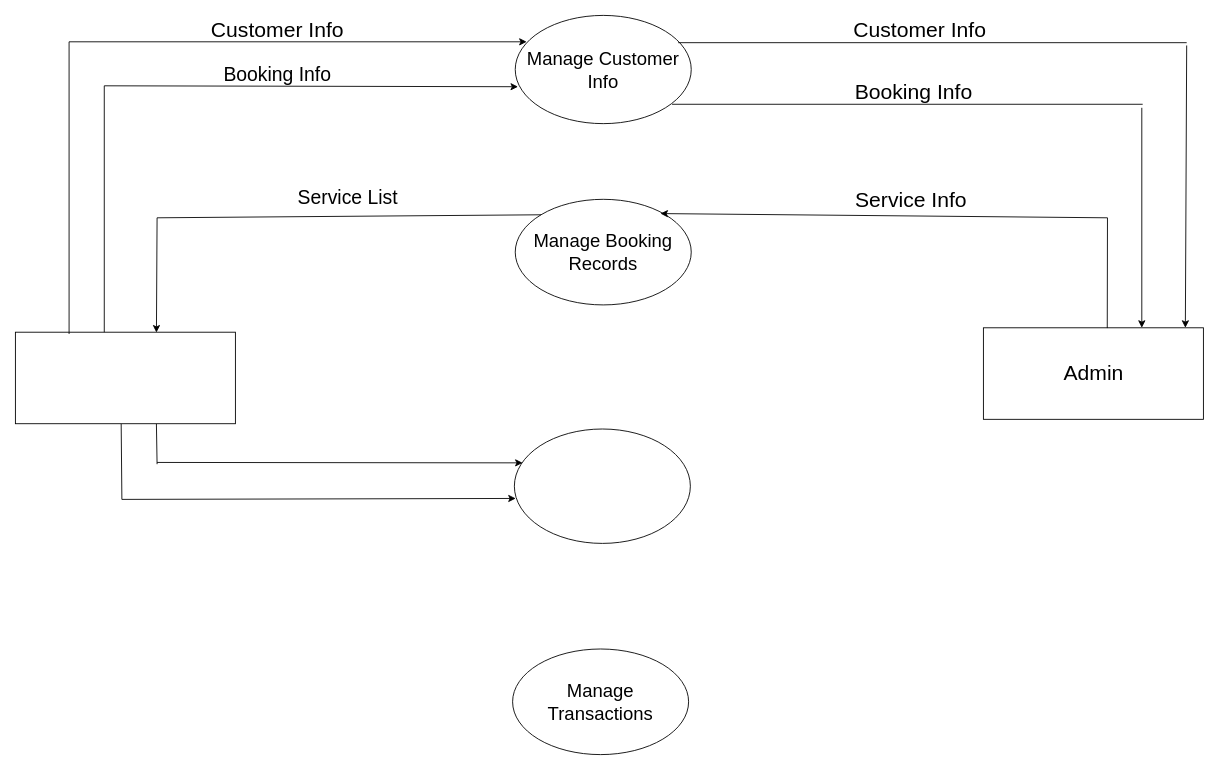
The diagram is 1219 pixels wide and 770 high, and some of its shapes have lost their labels. The centre of each missing label's shape, as x and y in pixels:
"Monitor Booking Status" goes at [601,485].
"User" goes at [125,377].
